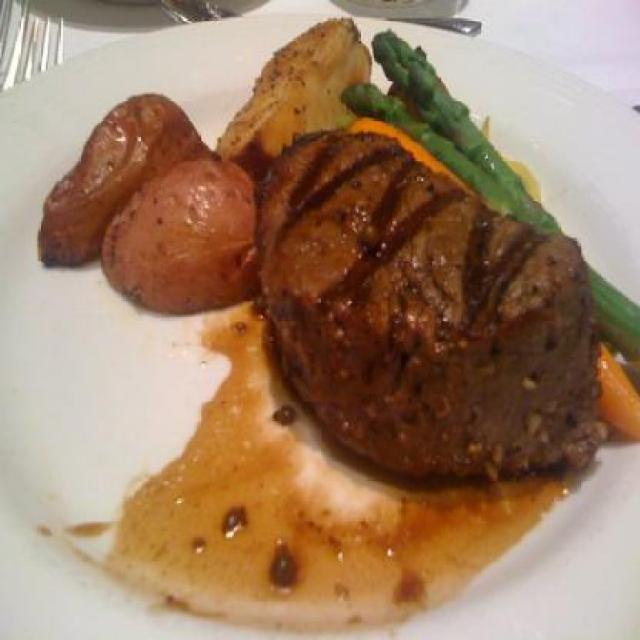Steak: (248, 92, 606, 500)
